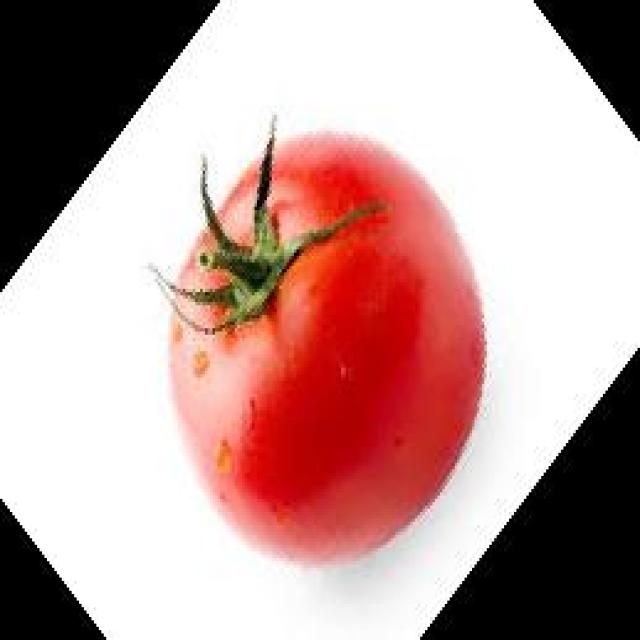Tomato: (170, 129, 484, 576)
